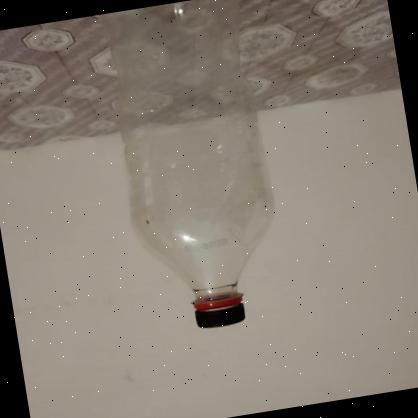bottle: (98, 0, 291, 338)
cap: (192, 294, 246, 330)
